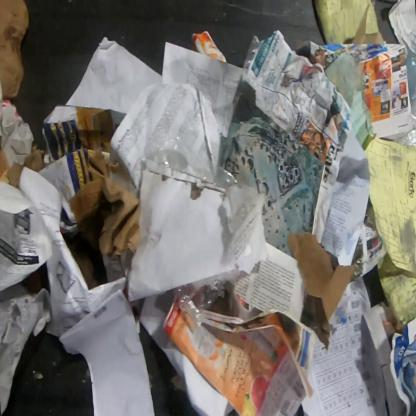cardboard: (119, 160, 229, 304), (38, 104, 128, 240), (62, 149, 141, 289), (0, 0, 31, 102), (4, 142, 49, 190), (191, 30, 227, 63)
soft_plastic: (141, 132, 243, 190), (171, 270, 240, 336), (391, 49, 415, 148)
